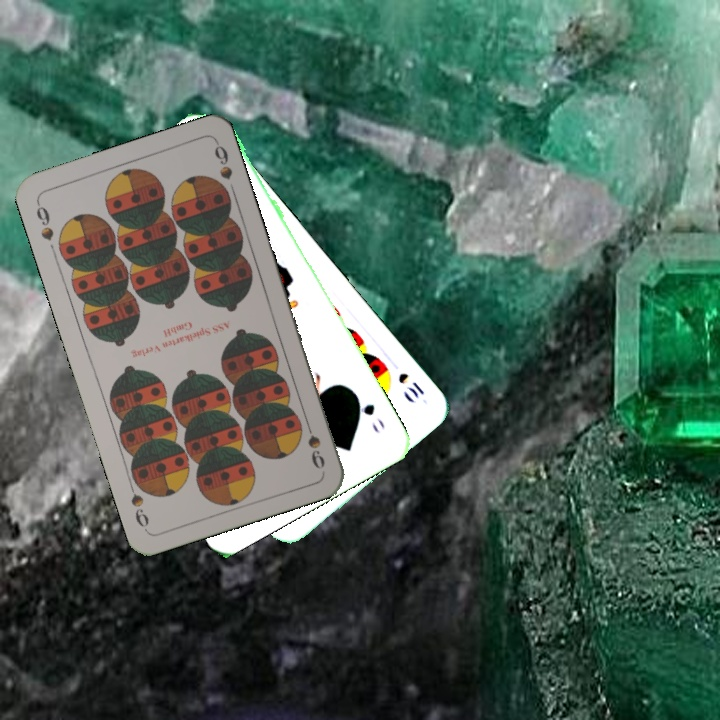GO: (349, 388, 388, 436)
S10: (394, 368, 427, 401)
S9: (294, 414, 328, 472), (32, 197, 56, 244)
